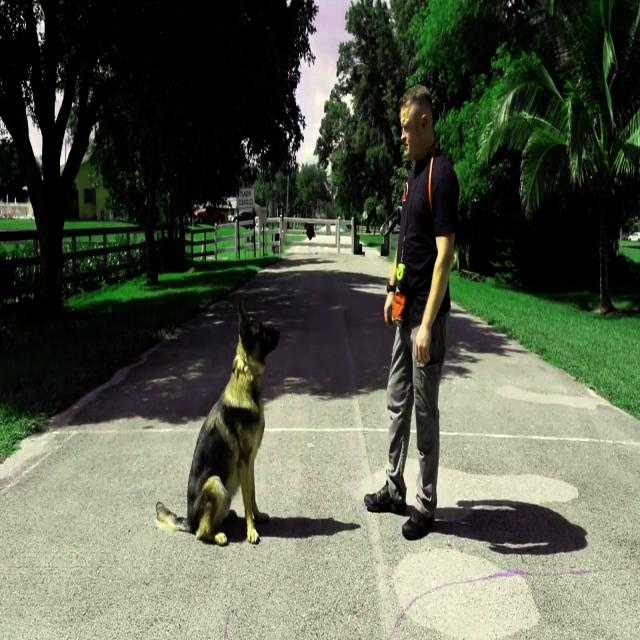Unleashed_Dog: (155, 303, 444, 546)
